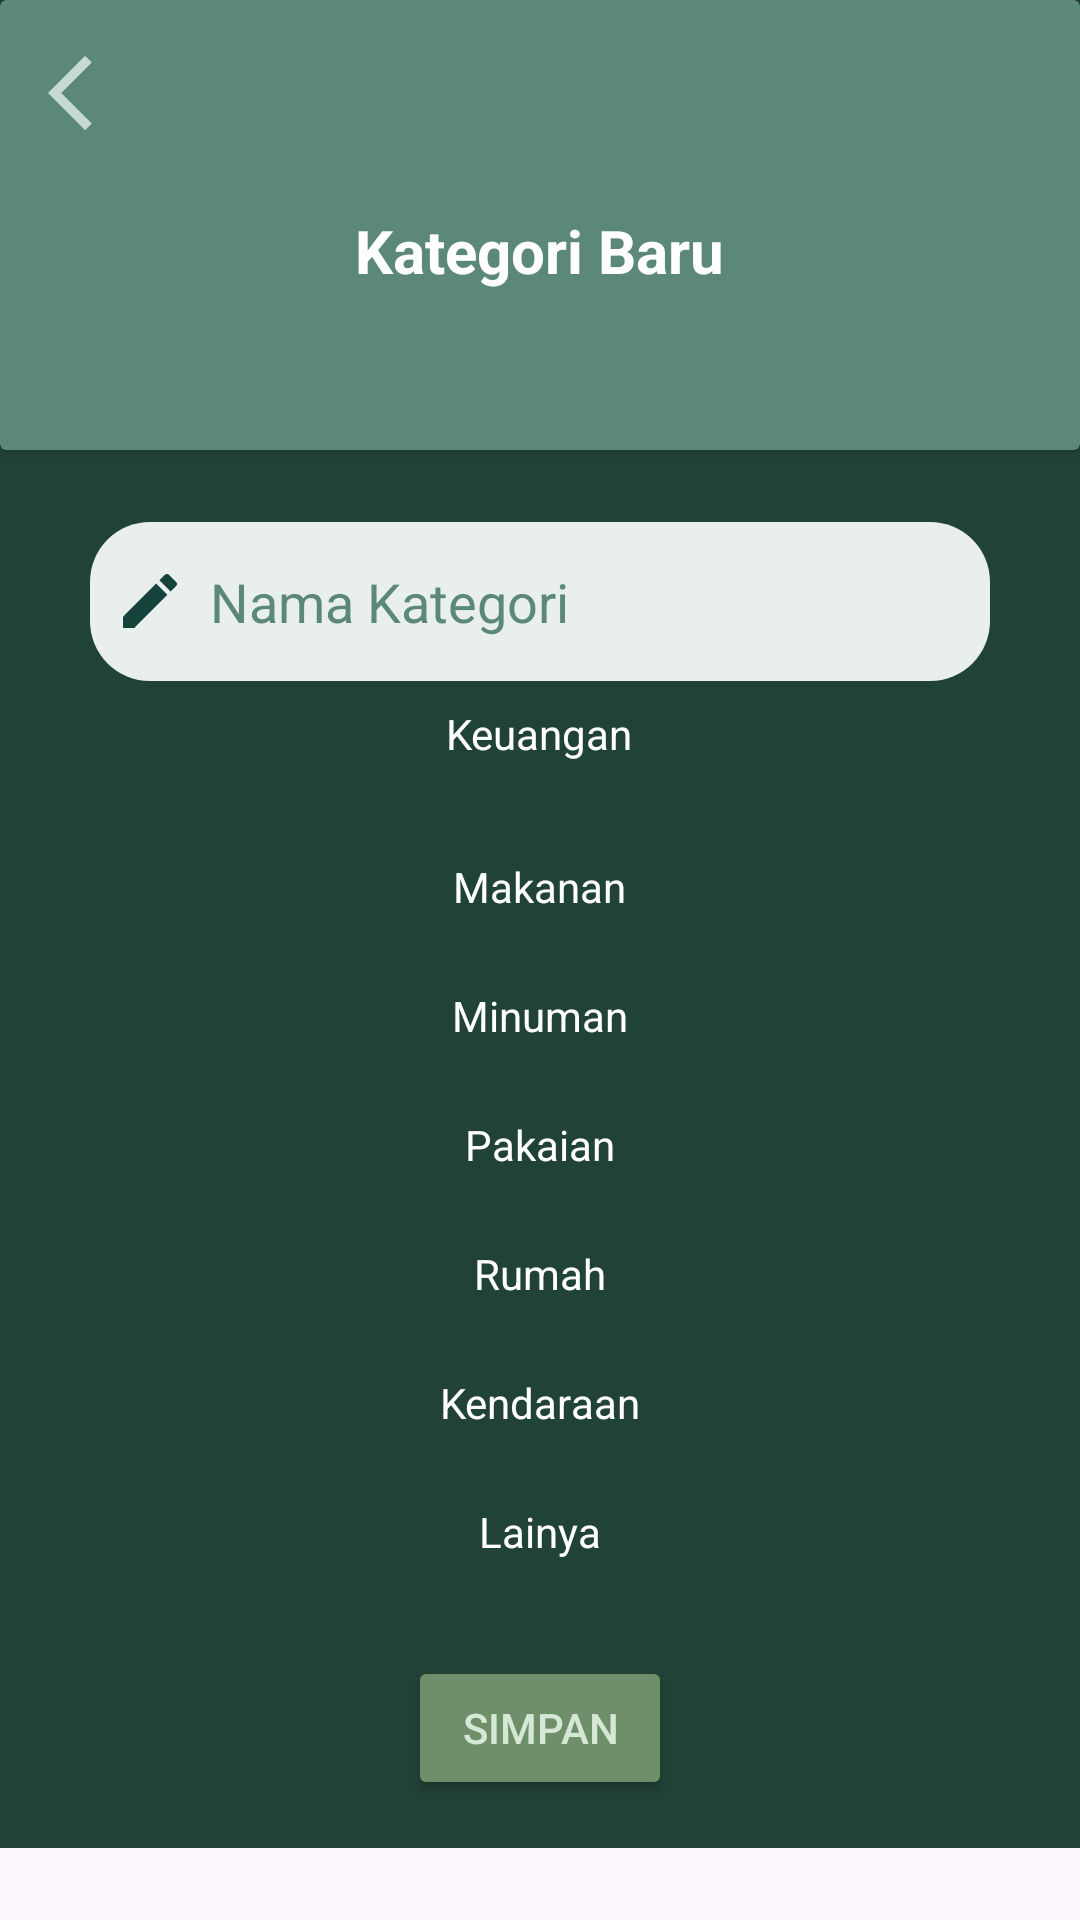

Screen size 1080*1920. Icon name, then its box in pixels as (x1, y1, x2, y2):
arrow left: (48, 56, 92, 130)
